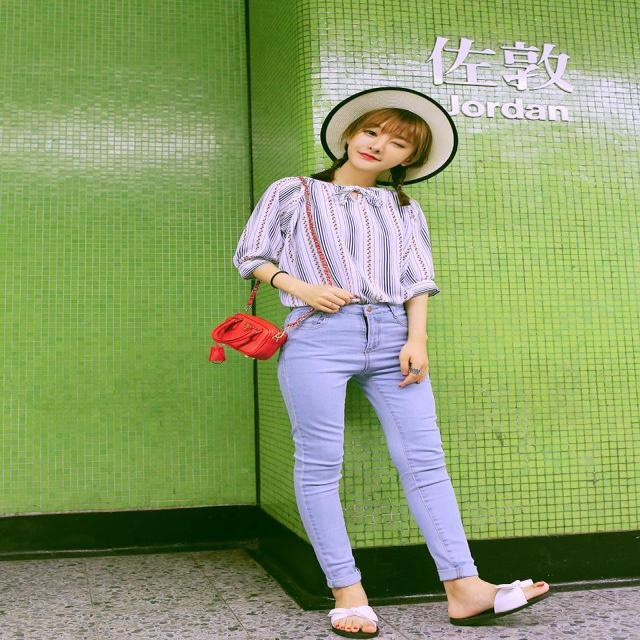long sleeve top: (233, 177, 438, 309)
trousers: (283, 307, 479, 587)
